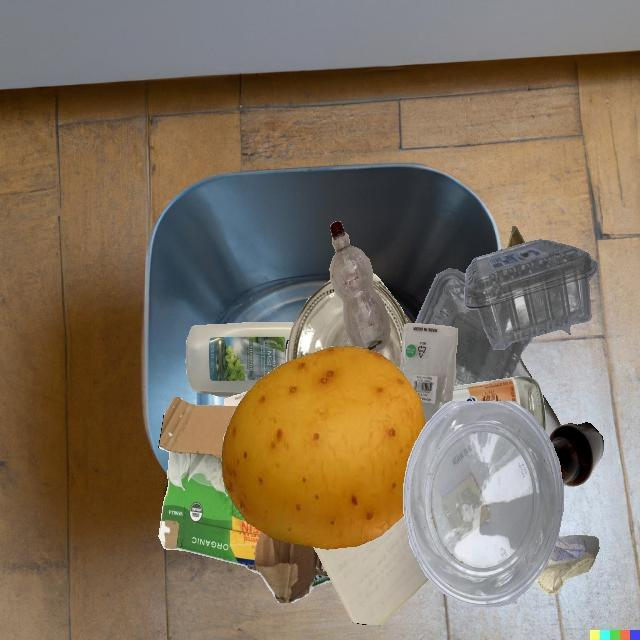biowaste: (221, 346, 426, 549)
cardboard: (158, 397, 331, 603)
glass: (286, 280, 352, 362), (452, 377, 546, 432), (549, 422, 604, 487), (373, 273, 408, 370)
paper: (313, 515, 429, 625), (535, 535, 599, 595), (541, 392, 561, 438), (512, 356, 533, 378), (507, 226, 525, 248), (224, 391, 248, 406)
plastic: (403, 401, 563, 607), (464, 239, 597, 350), (415, 268, 531, 386), (185, 322, 294, 397), (330, 221, 391, 352), (400, 323, 458, 422)
